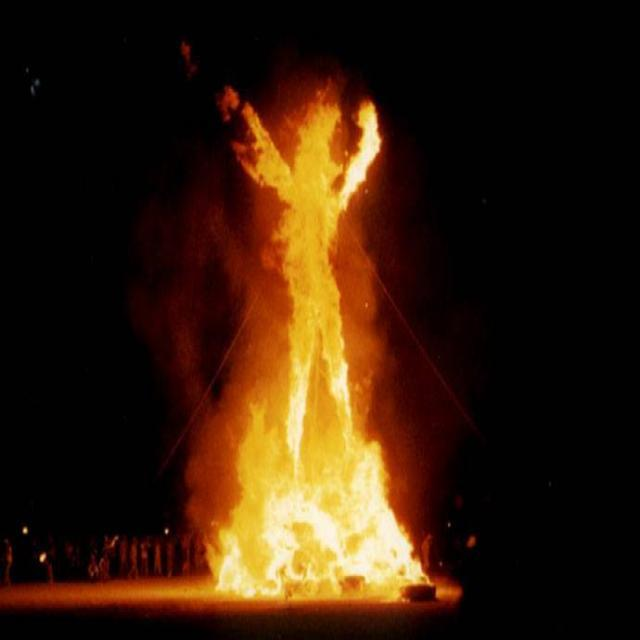Fire: (262, 472, 386, 578), (291, 172, 332, 325)
